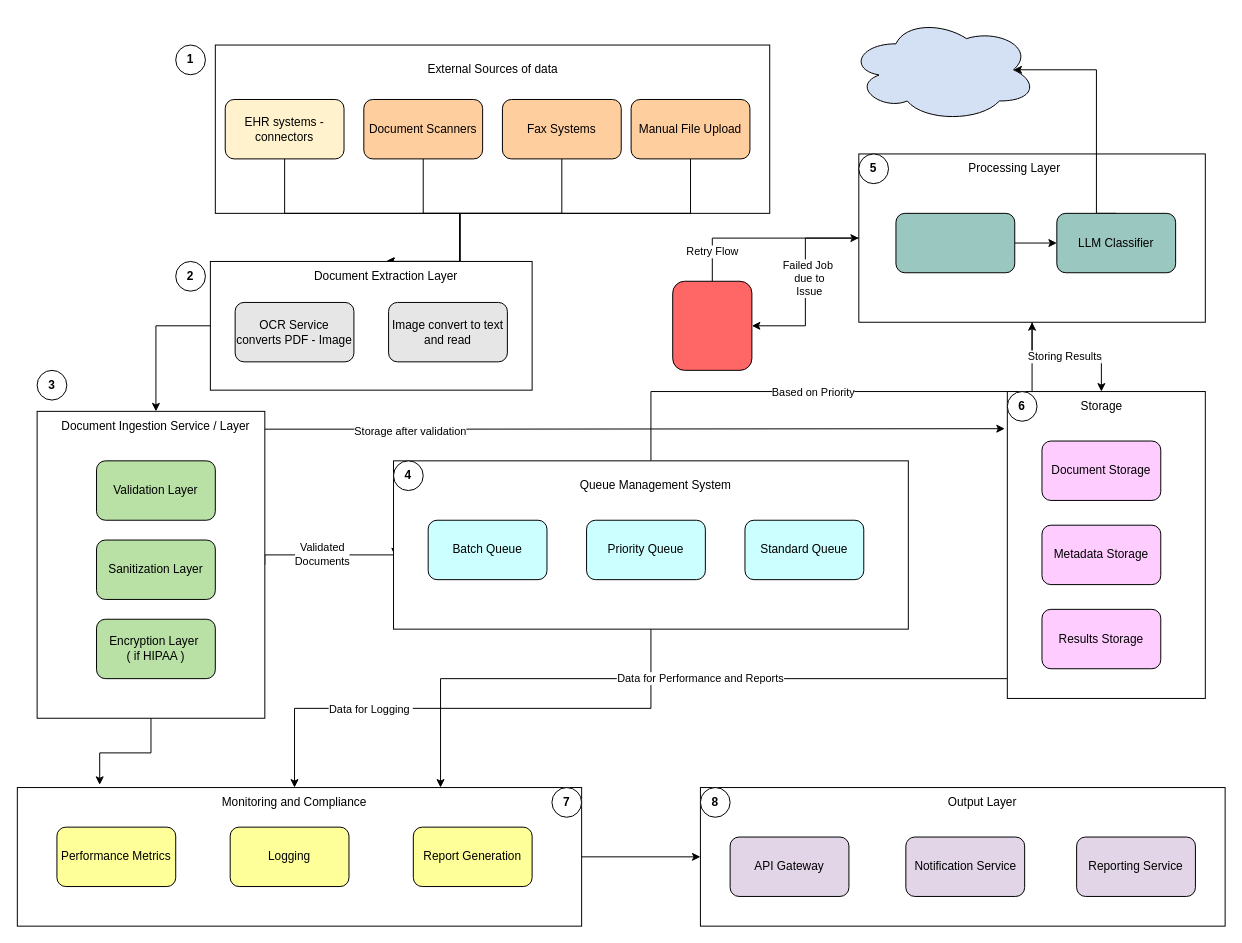
This 1242x943 diagram has some shape labels left out. Each missing label, with the centre of its shape:
Dead Letter Queue For Failure Analysis: pixel 712 325
LLM API ( With BA for data usage prevention ): pixel 942 69
Processing of text: pixel 955 242
